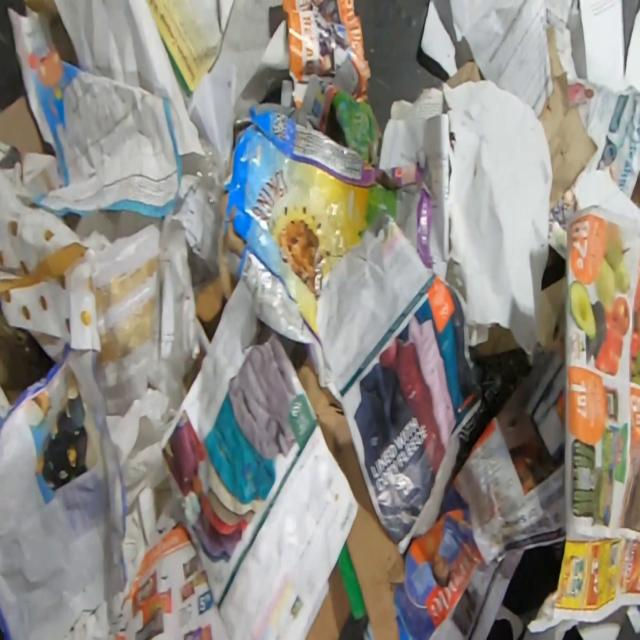cardboard: (194, 99, 434, 401), (295, 356, 406, 640), (0, 296, 57, 405), (296, 561, 363, 640), (0, 92, 58, 167), (630, 166, 640, 208)
rigid_plastic: (180, 132, 226, 208)
